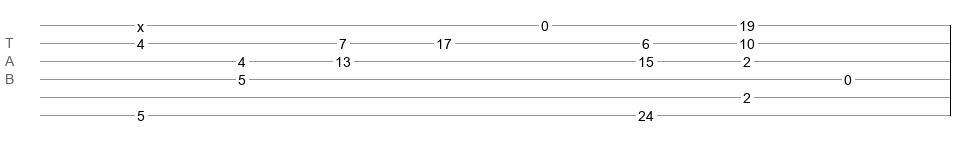0: (541, 18, 549, 28), (844, 72, 852, 82)
10: (739, 36, 755, 46)
13: (335, 54, 351, 64)
15: (638, 54, 654, 64)
17: (436, 36, 452, 46)
19: (739, 18, 755, 28)
2: (743, 90, 751, 100), (743, 54, 751, 64)
24: (638, 108, 654, 118)
4: (137, 36, 145, 46), (238, 54, 246, 64)
5: (137, 108, 145, 118), (238, 72, 246, 82)
6: (642, 36, 650, 46)
7: (339, 36, 347, 46)
x: (137, 19, 144, 27)
